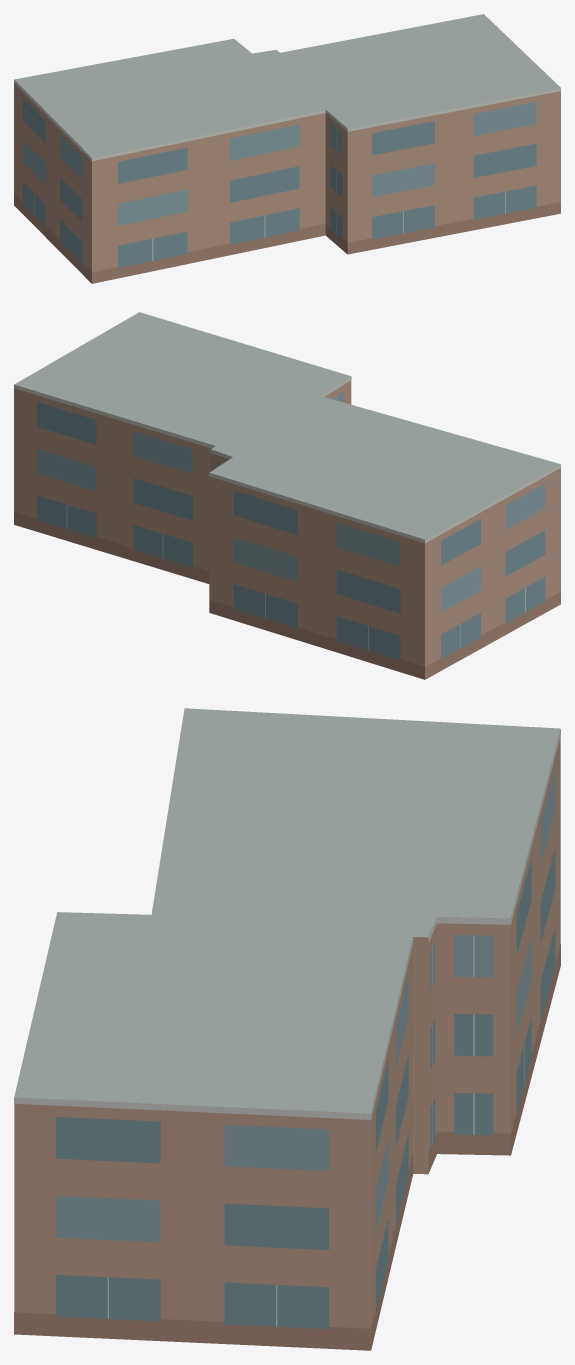
The model's file is survey-upis-32634507.glb.
3 renders of one model, top to bottom at view 1: azimuth 30°, elevation 25°; view 2: azimuth 150°, elevation 25°; view 3: azimuth 270°, elevation 25°, orthographic. The views are drawn at different scales.
Visible parts, largest first — view 1: survey-upis-32634507.tmp; view 2: survey-upis-32634507.tmp; view 3: survey-upis-32634507.tmp.
Part boxes in pixels (x1,y1,x2,y2): survey-upis-32634507.tmp: (14,14,560,283); survey-upis-32634507.tmp: (14,312,560,679); survey-upis-32634507.tmp: (14,708,560,1350).
Bounding box in the file's own units: 33.59 × 9.15 × 19.14.
